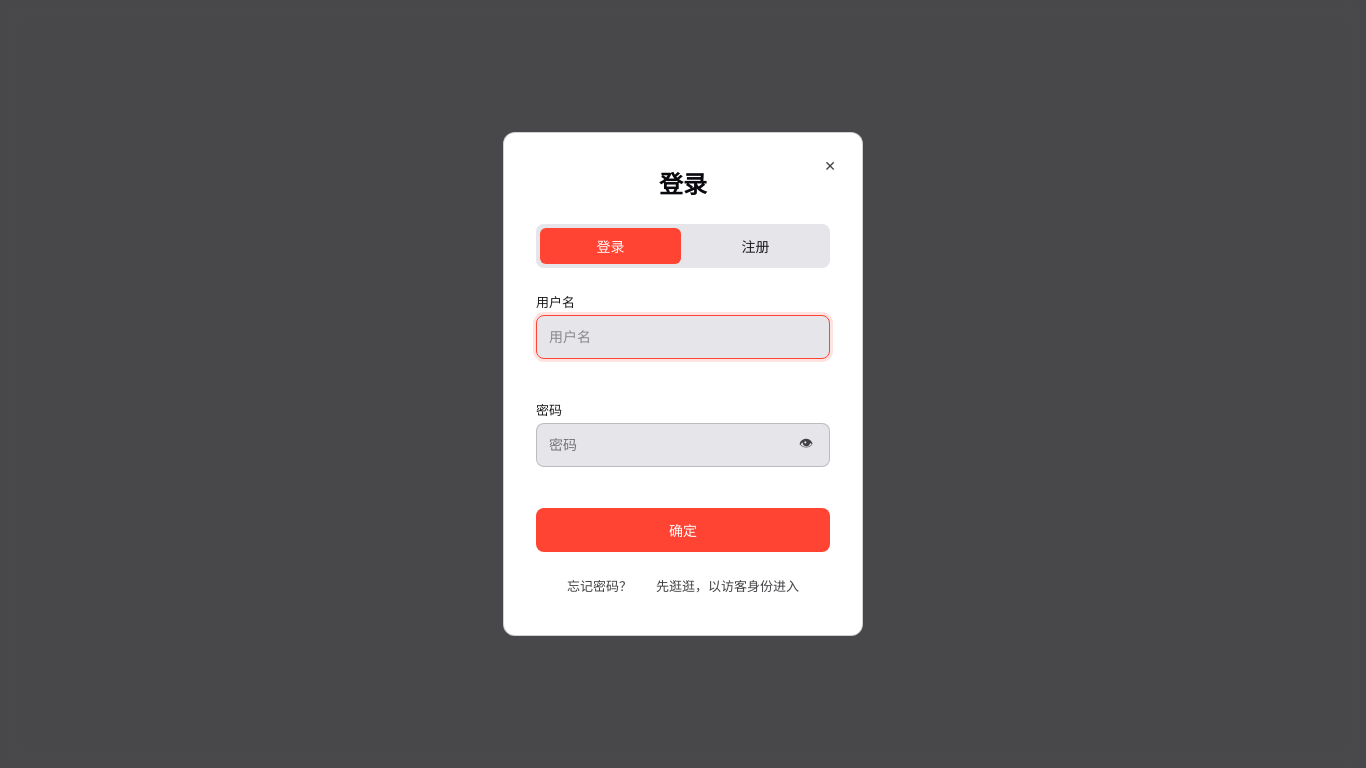
Test case: AuthDialog › 登录表单 › 登录失败时显示错误信息
Step 1. Type "testuser" into the field with placeholder "用户名" → [683, 337], box [536,315,830,359]
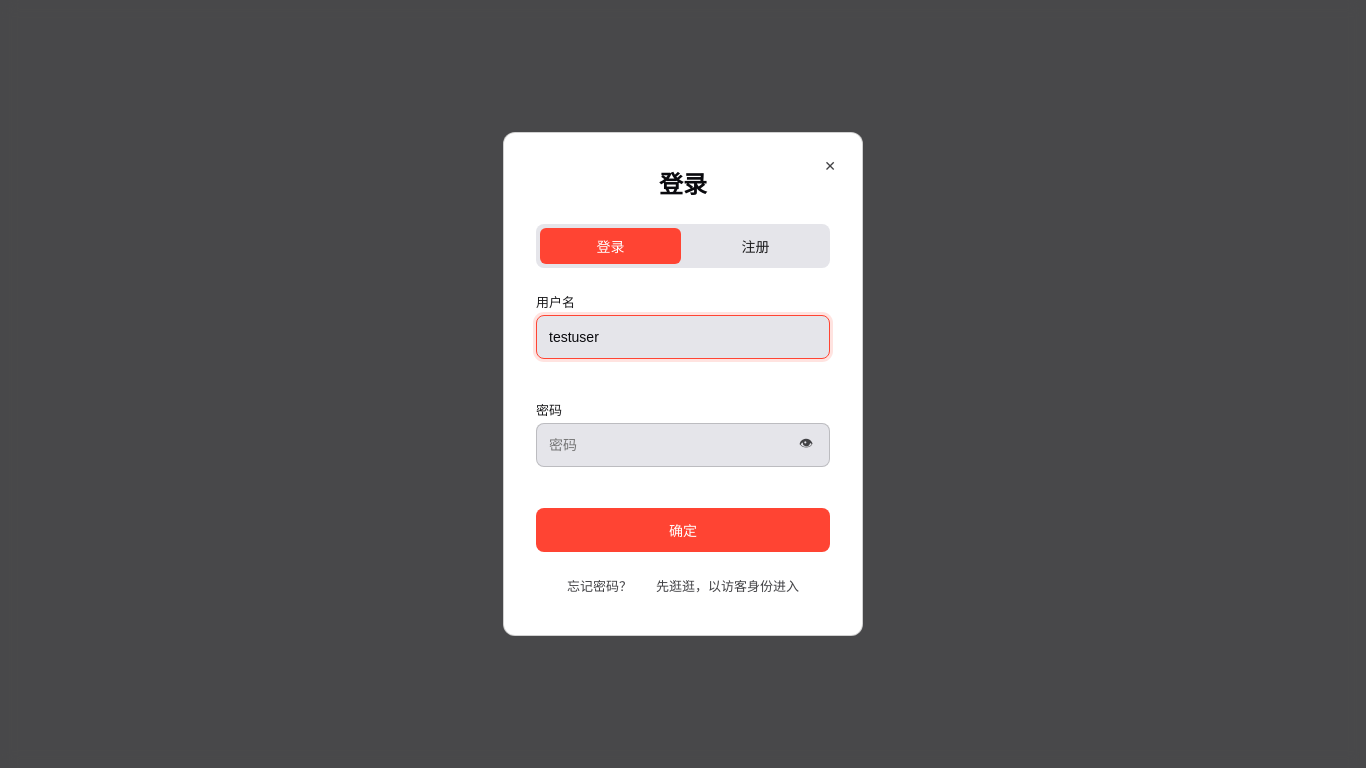
Step 2. Type "Test@1234" into the password field labelled "密码 👁" → [683, 445], box [536,423,830,467]
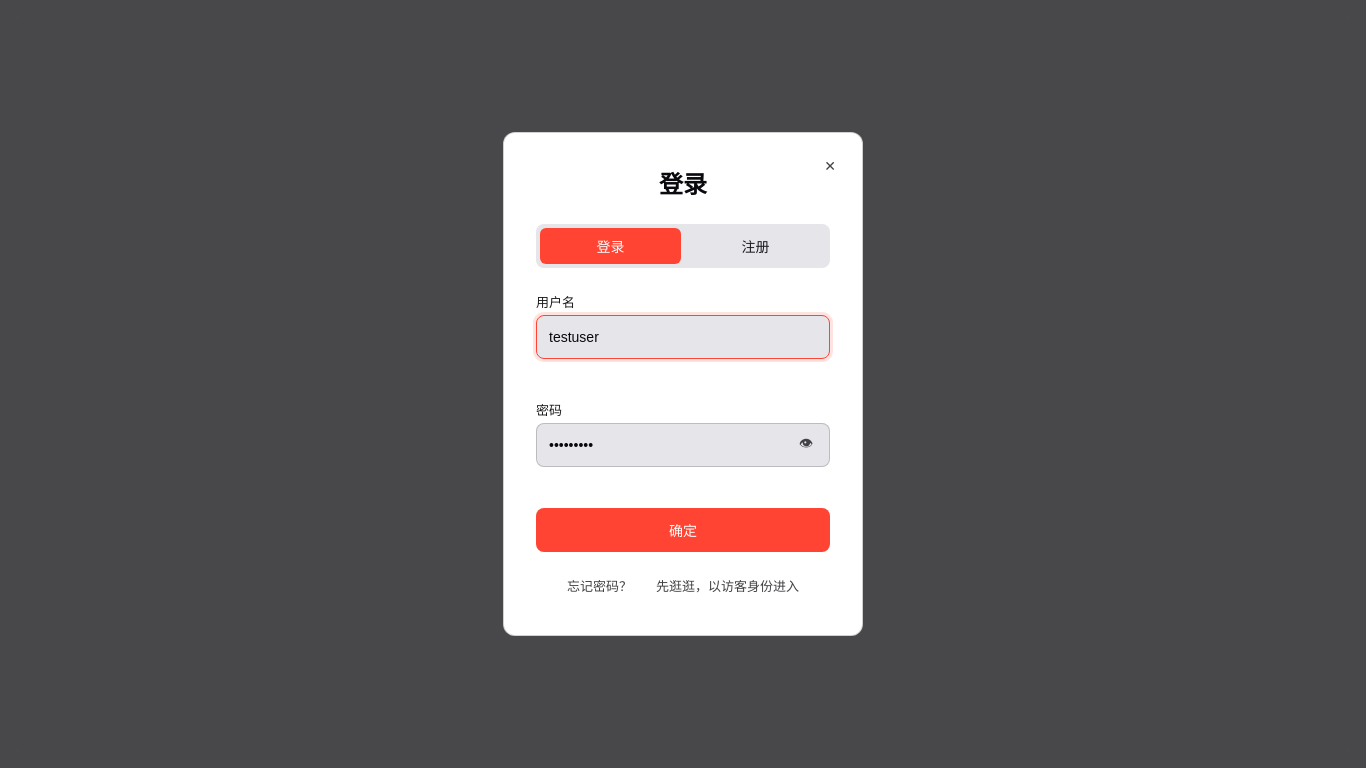
Step 3. Click the button "确定" → [683, 530], box [536,508,830,552]
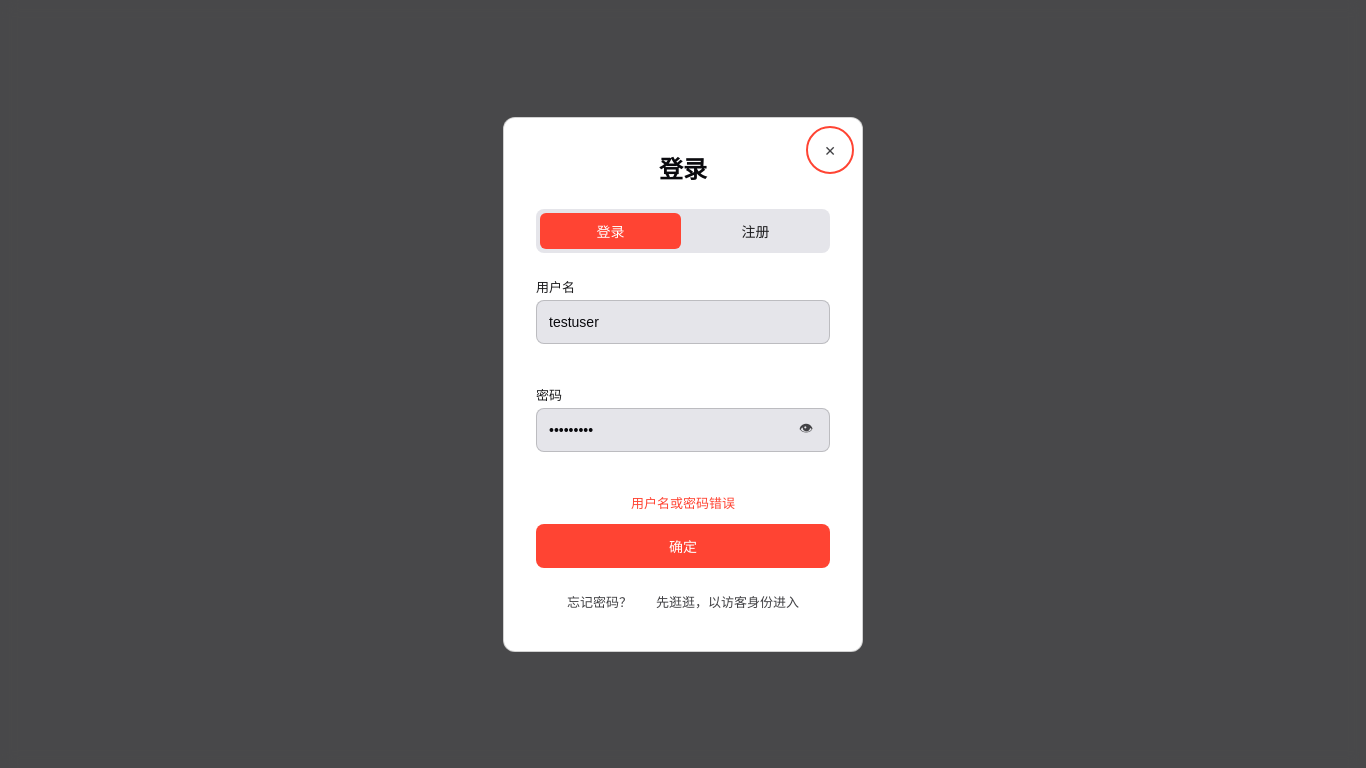
Result: the text "用户名或密码错误" is shown at [631,494,735,510]
